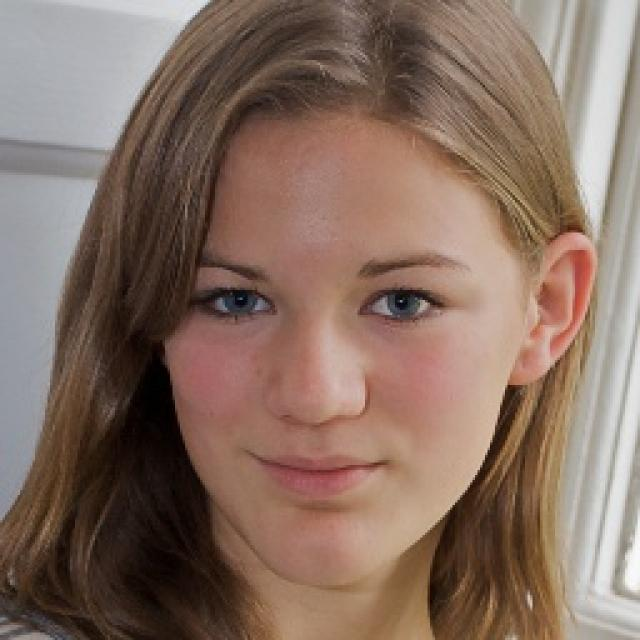earlobe: (509, 232, 597, 386)
